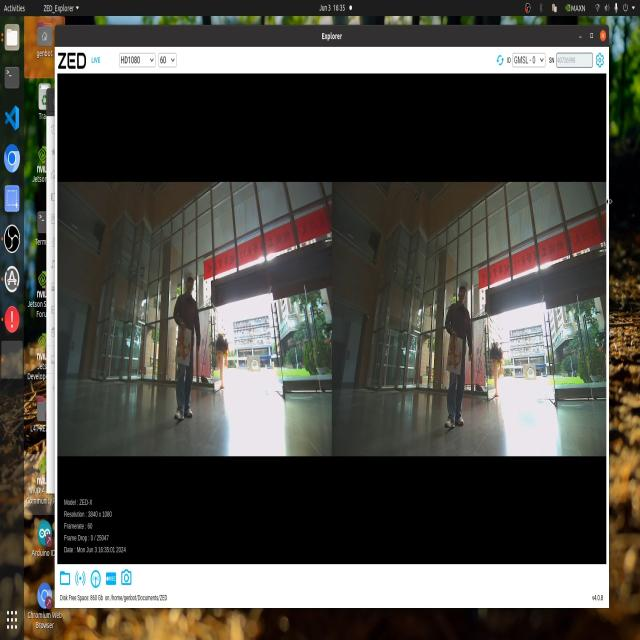red: (448, 334, 462, 377), (177, 330, 191, 359)
